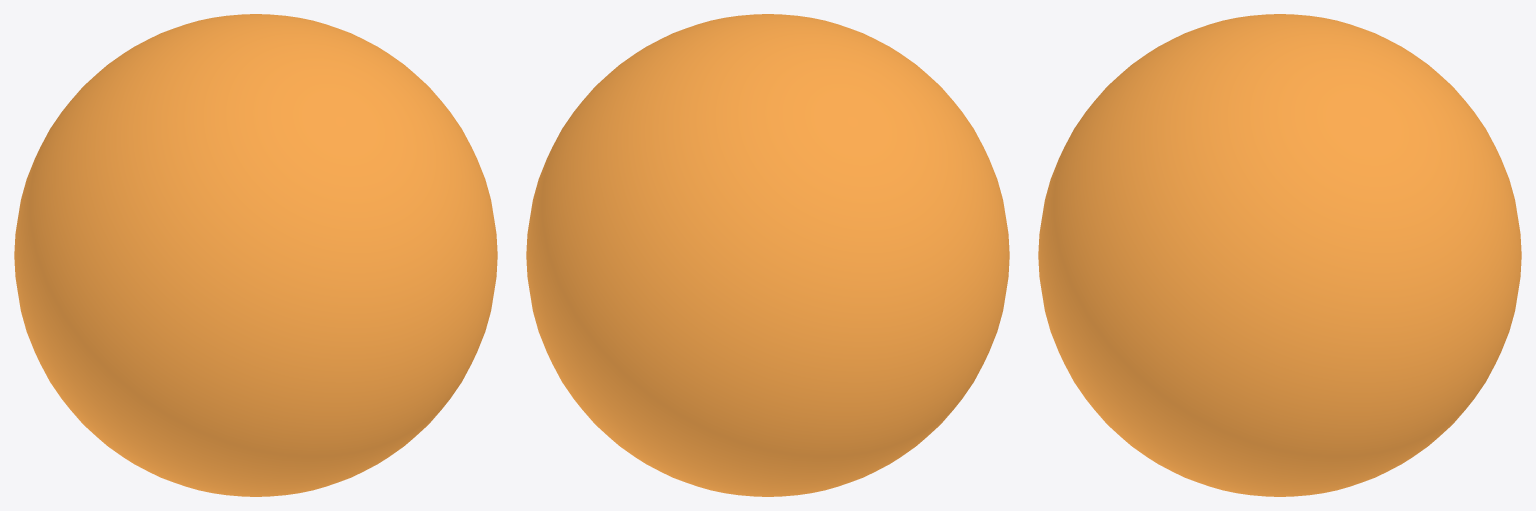
The model's file is black-hole.glb.
3 renders of one model, left to right at view 1: azimuth 30°, elevation 25°; view 2: azimuth 150°, elevation 25°; view 3: azimuth 270°, elevation 25°, orthographic.
Parts seen in each view (by area): view 1: Horizon; view 2: Horizon; view 3: Horizon.
Part boxes in pixels (x1=…): Horizon: x1=14, y1=14, x2=497, y2=496; Horizon: x1=526, y1=14, x2=1009, y2=496; Horizon: x1=1038, y1=14, x2=1521, y2=496.
Bounding box in the file's own units: 60 × 60 × 60.
